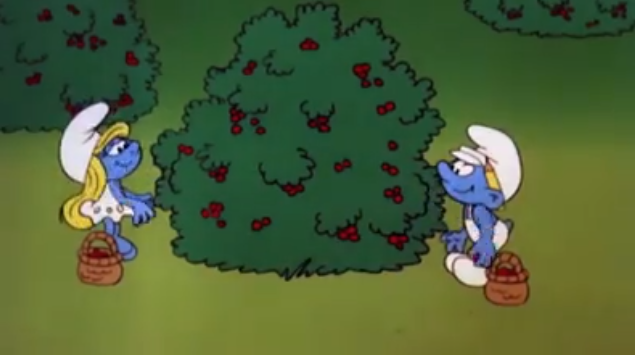smurf: (53, 101, 163, 259), (433, 123, 524, 289)
